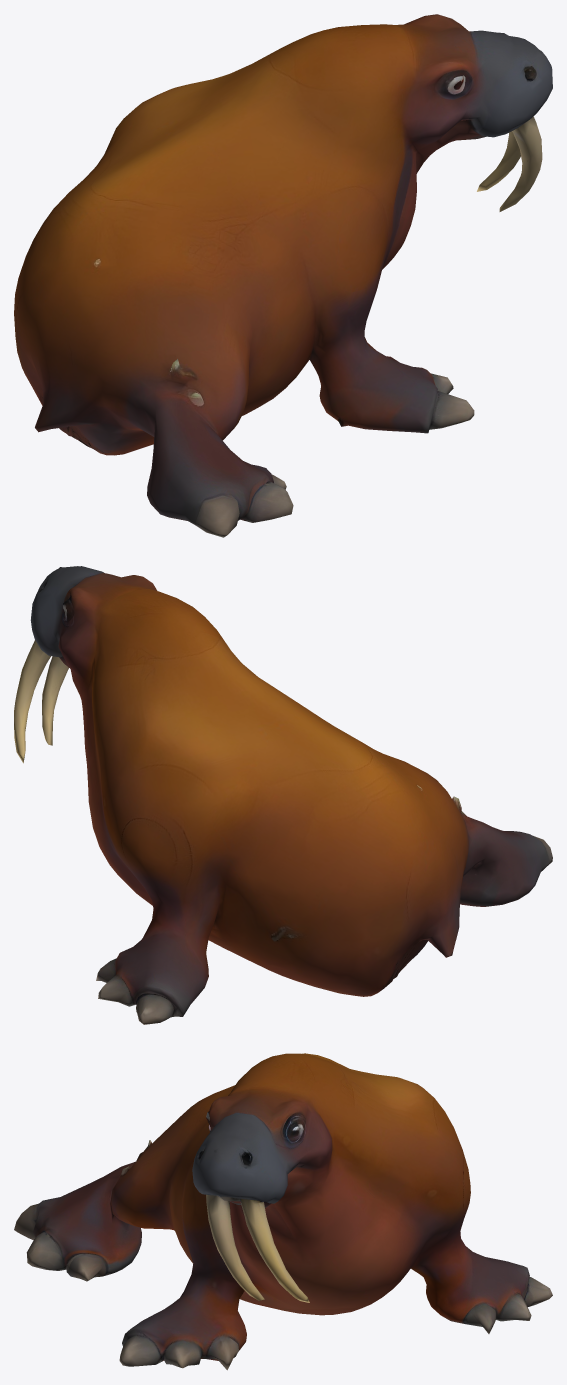
File: monster.glb
The picture shows the model from 3 angles, top to bottom: view 1: azimuth 30°, elevation 25°; view 2: azimuth 150°, elevation 25°; view 3: azimuth 270°, elevation 25°; orthographic projection. The views are drawn at different scales.
Parts seen in each view (by area): view 1: tripo_node_cf111edf-78bd-440a-8765-c1ecb675c76e; view 2: tripo_node_cf111edf-78bd-440a-8765-c1ecb675c76e; view 3: tripo_node_cf111edf-78bd-440a-8765-c1ecb675c76e.
Boxes of the visible parts, left/top/right/bottom form: tripo_node_cf111edf-78bd-440a-8765-c1ecb675c76e: left=14, top=14, right=552, bottom=537; tripo_node_cf111edf-78bd-440a-8765-c1ecb675c76e: left=14, top=566, right=552, bottom=1024; tripo_node_cf111edf-78bd-440a-8765-c1ecb675c76e: left=14, top=1053, right=552, bottom=1370.
Size of the model in its own units: 0.931 by 0.6642 by 1.
Materials: 1 (1 with a texture image).
